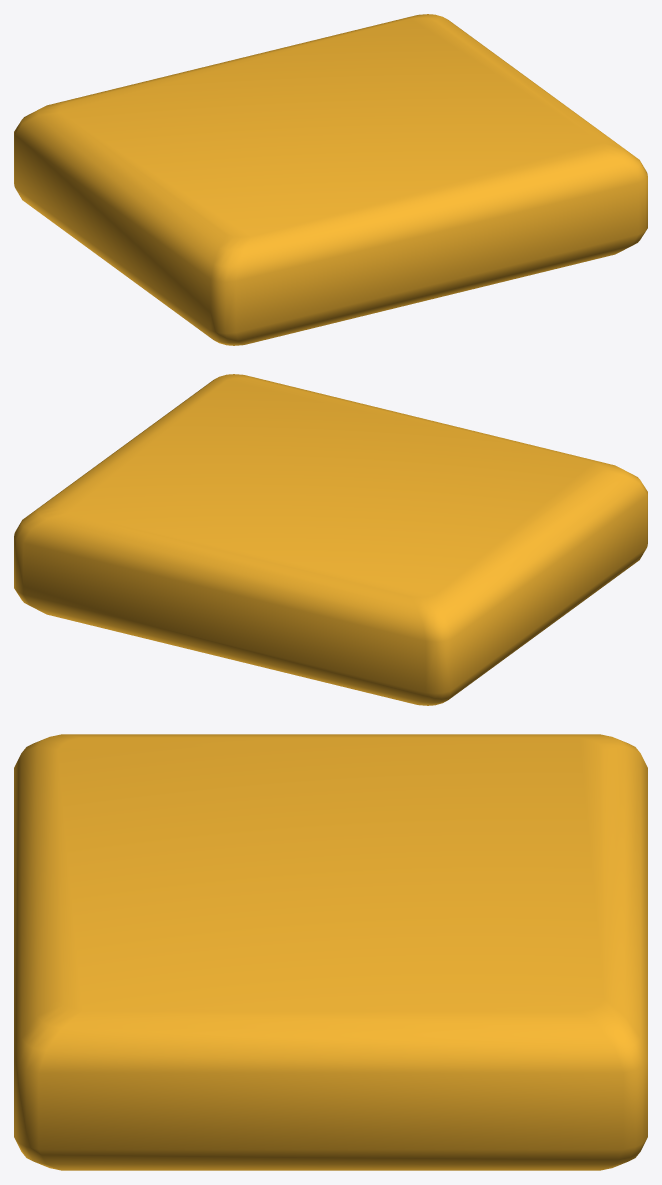
The model's file is Sofa_Seat_Extra.fbx.
3 renders of one model, top to bottom at view 1: azimuth 30°, elevation 25°; view 2: azimuth 150°, elevation 25°; view 3: azimuth 270°, elevation 25°, orthographic. The views are drawn at different scales.
Parts seen in each view (by area): view 1: Sofa_Seat_Extra; view 2: Sofa_Seat_Extra; view 3: Sofa_Seat_Extra.
Part boxes in pixels (x1,y1,x2,y2): Sofa_Seat_Extra: (14,14,647,345); Sofa_Seat_Extra: (14,374,647,705); Sofa_Seat_Extra: (14,734,647,1170).
Bounding box in the file's own units: 94.78 × 21.71 × 80.
1 material, 1 textured.
